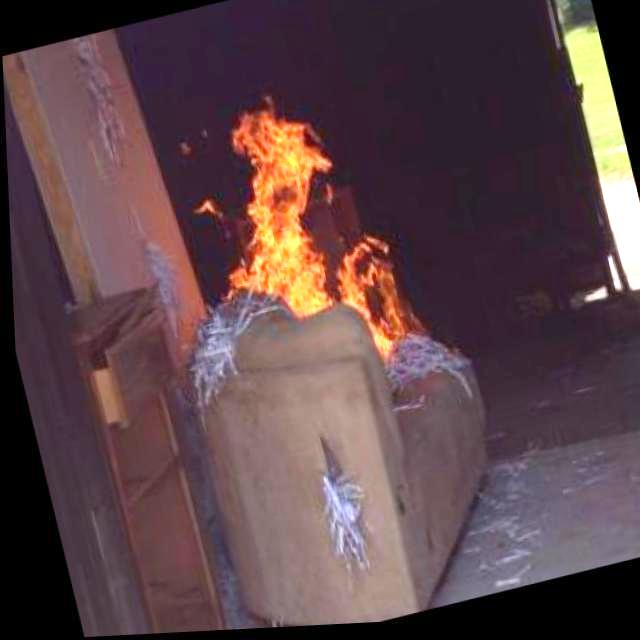fire: (189, 53, 451, 395)
